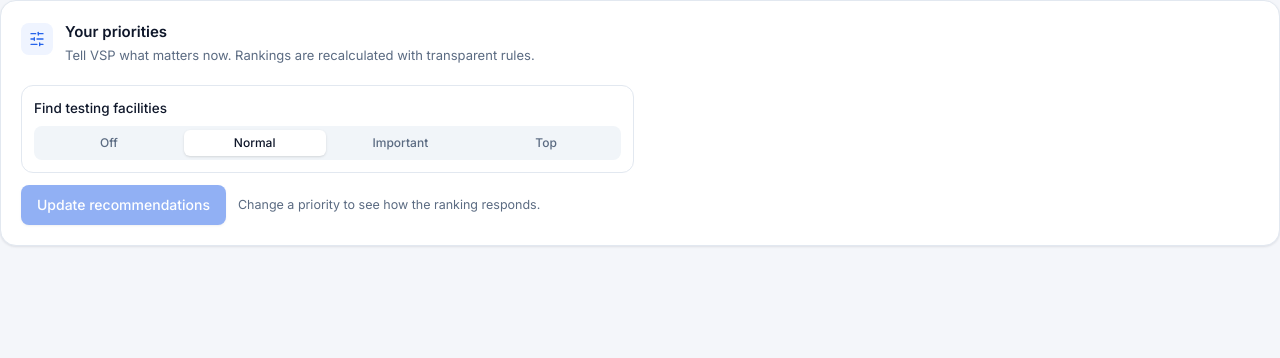
Test case: priority changes › sends new weights and shows how the ranking moved
The image size is (1280, 358).
Expected: the button "Update recommendations" is disabled, x1=21 y1=185 x2=226 y2=225
Click the radio button labelled "Top" at (546, 143), box x1=475 y1=130 x2=617 y2=156
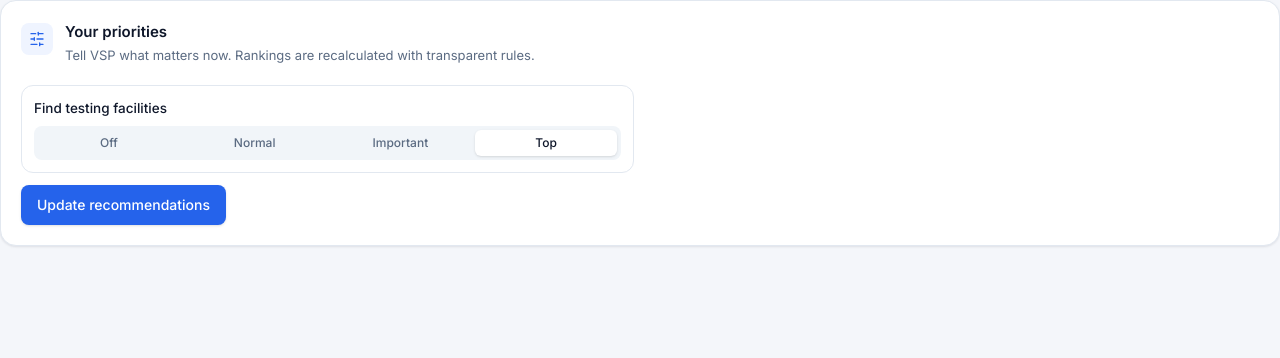
Click the button "Update recommendations" at (124, 205), box x1=21 y1=185 x2=226 y2=225
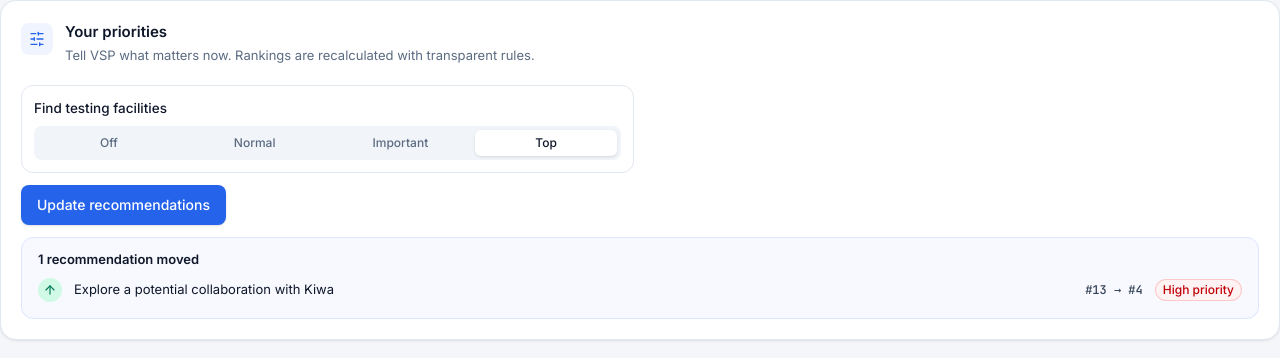
Now the text "Explore a potential collaboration with Kiwa" is shown, box x1=74 y1=281 x2=334 y2=297
Now the text "#13 → #4" is shown, box x1=1085 y1=281 x2=1143 y2=299
